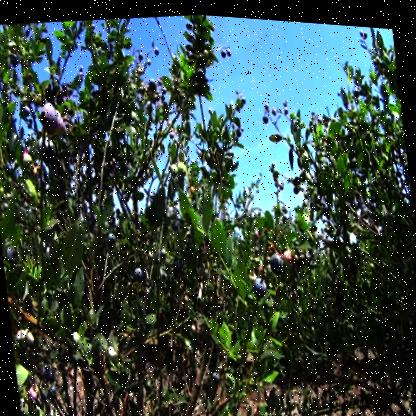intermediate: (279, 240, 298, 267), (20, 147, 34, 171), (27, 383, 42, 404)
mature: (37, 99, 63, 138), (267, 245, 286, 273), (252, 271, 271, 296), (4, 244, 21, 262), (132, 261, 145, 279), (107, 228, 118, 244)
young: (15, 325, 36, 352), (167, 156, 189, 178), (105, 344, 120, 365), (72, 326, 82, 348)
